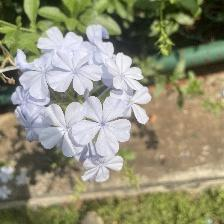chitrak: (76, 98, 135, 157), (39, 102, 88, 158), (47, 49, 105, 96), (16, 53, 72, 99), (107, 51, 145, 94)
